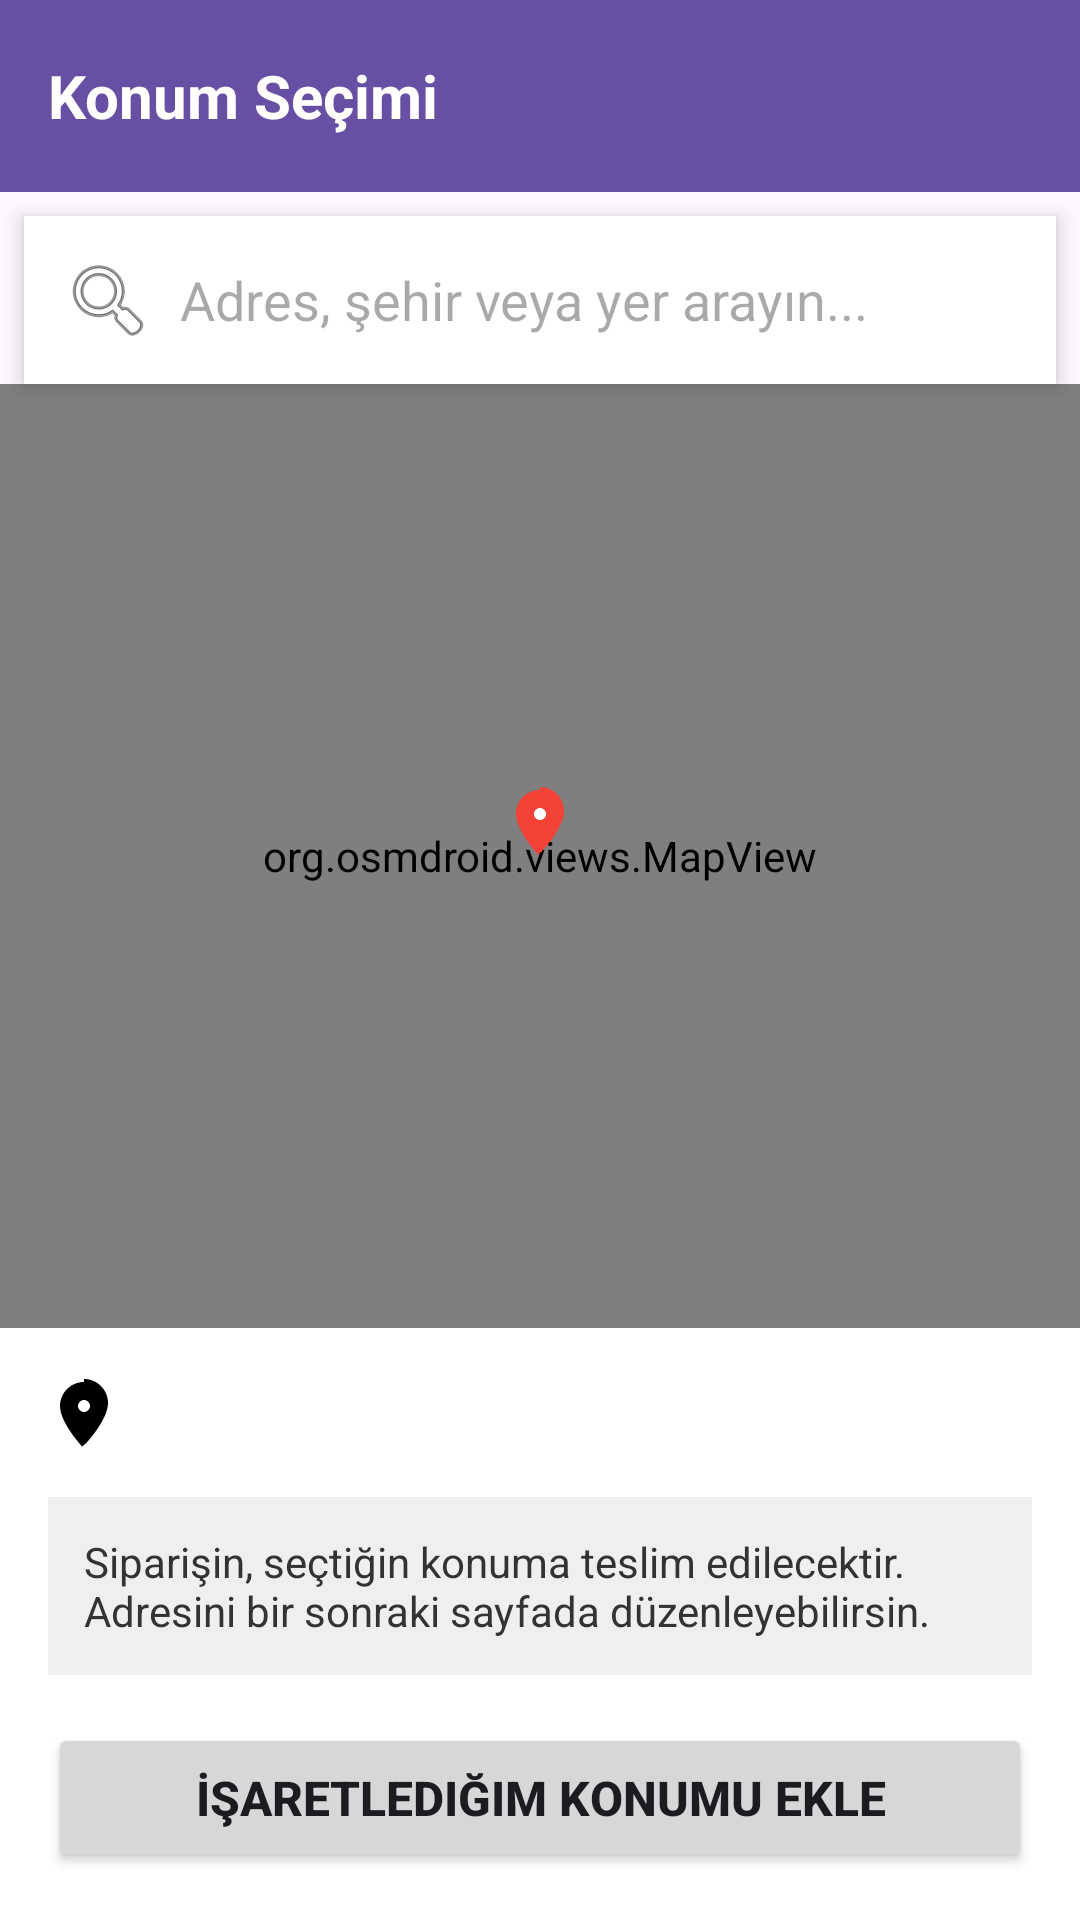

Where to tap for icons on this 1080w x 1920h app screen, as (x,y):
Konum İşaretçisi: (539,821)
